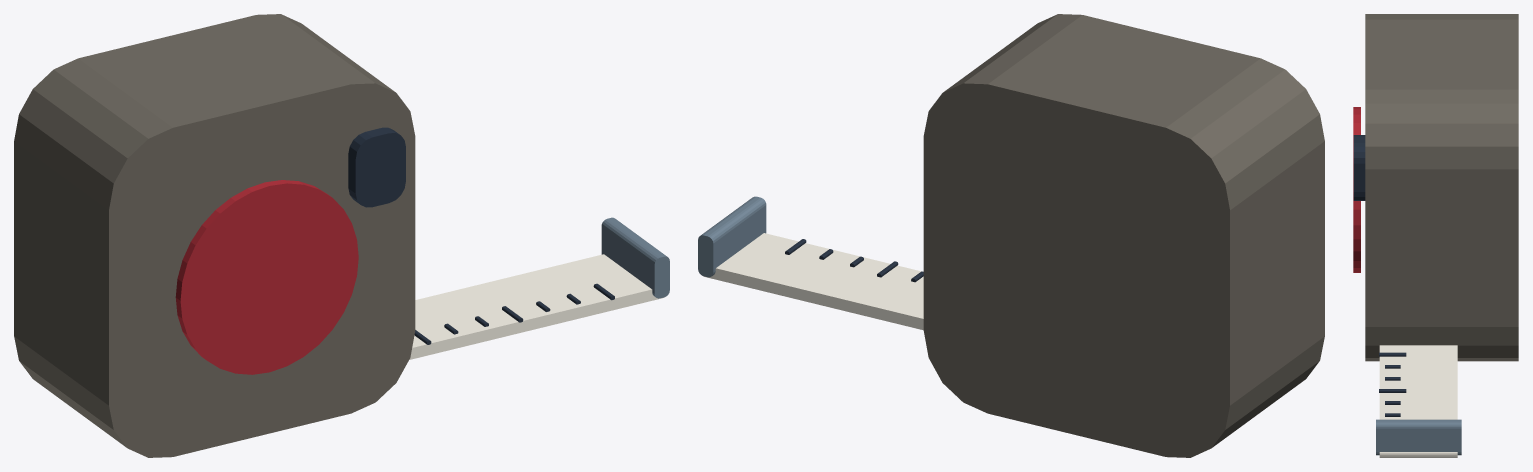
The model's file is taperule.glb.
3 views of the same model, side by side, from view 1: azimuth 30°, elevation 25°; view 2: azimuth 150°, elevation 25°; view 3: azimuth 270°, elevation 25° (orthographic). The views are drawn at different scales.
Visible parts, largest first — view 1: housing, case inset, blade, lock button, end hook; view 2: housing, blade, end hook; view 3: housing, blade, end hook, case inset, lock button.
Part boxes in pixels (box(x1,y1,x2,y2)): housing: box(14, 14, 415, 457); case inset: box(175, 180, 358, 374); blade: box(409, 254, 664, 359); lock button: box(348, 127, 405, 207); end hook: box(601, 217, 669, 298); housing: box(923, 14, 1324, 457); blade: box(703, 233, 923, 330); end hook: box(698, 196, 766, 277); housing: box(1365, 14, 1518, 361); blade: box(1379, 345, 1457, 457); end hook: box(1376, 419, 1461, 455); case inset: box(1353, 107, 1360, 272); lock button: box(1353, 135, 1365, 200).
Size of the model in its own units: 2.04 by 1.13 by 0.637.
